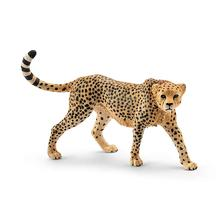Cheetah: (19, 49, 204, 177)
